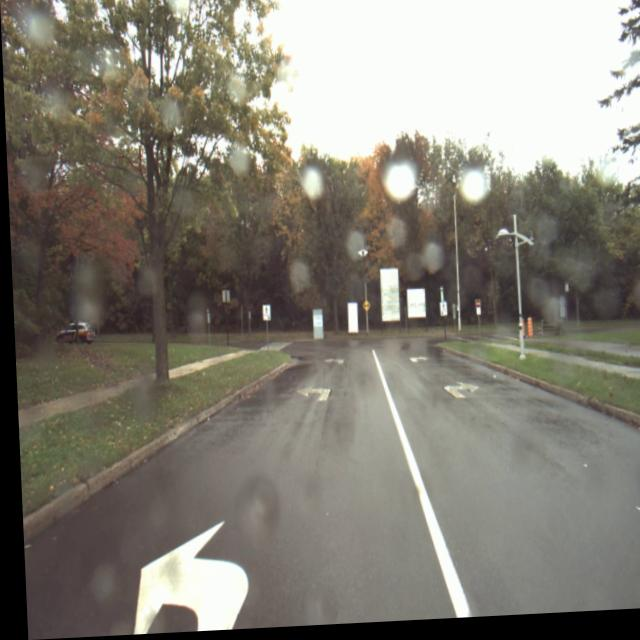car: (53, 320, 94, 347)
